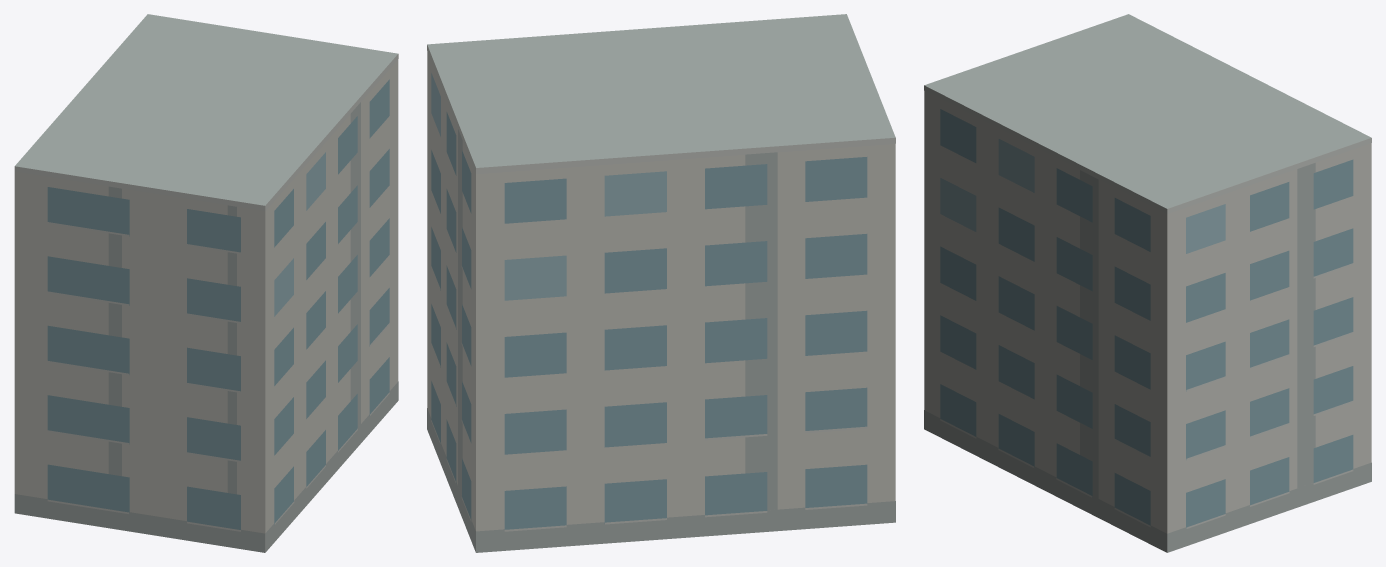
The model's file is survey-upis-32838911.glb.
The picture shows the model from 3 angles, left to right: view 1: azimuth 30°, elevation 25°; view 2: azimuth 150°, elevation 25°; view 3: azimuth 270°, elevation 25°; orthographic projection. The views are drawn at different scales.
Visible parts, largest first — view 1: survey-upis-32838911.tmp; view 2: survey-upis-32838911.tmp; view 3: survey-upis-32838911.tmp.
Boxes of the visible parts, bbox=[...] form: survey-upis-32838911.tmp: bbox=[14, 14, 398, 552]; survey-upis-32838911.tmp: bbox=[427, 14, 895, 552]; survey-upis-32838911.tmp: bbox=[924, 14, 1371, 552].
Size of the model in its own units: 18.97 by 15.6 by 18.41.
